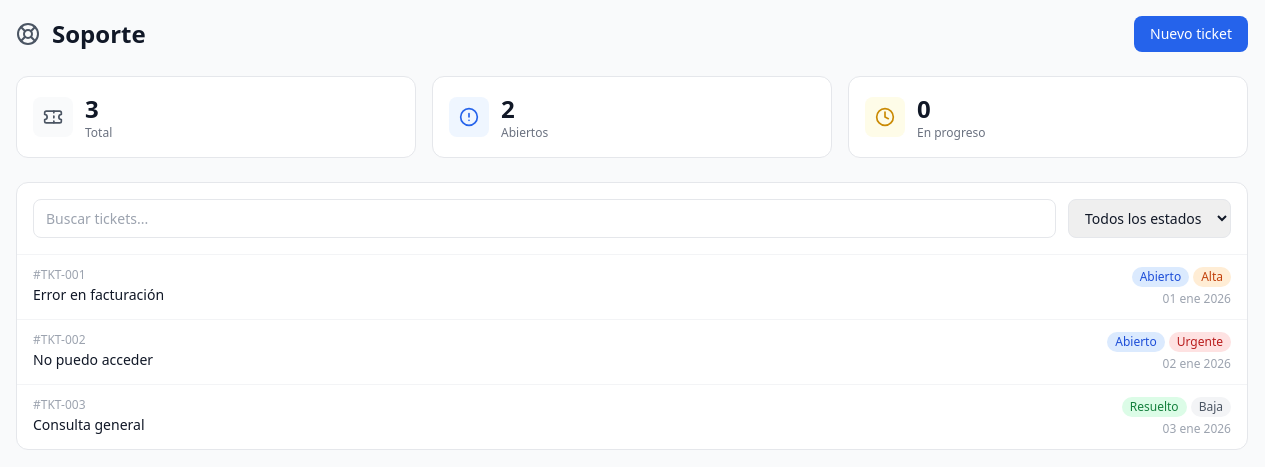
Test: SupportPage › filters tickets by status
The width and height of the screenshot is (1265, 467).
Select "Abierto" in the dropdown named "Estado" at (1150, 218), box x1=1068 y1=199 x2=1231 y2=238
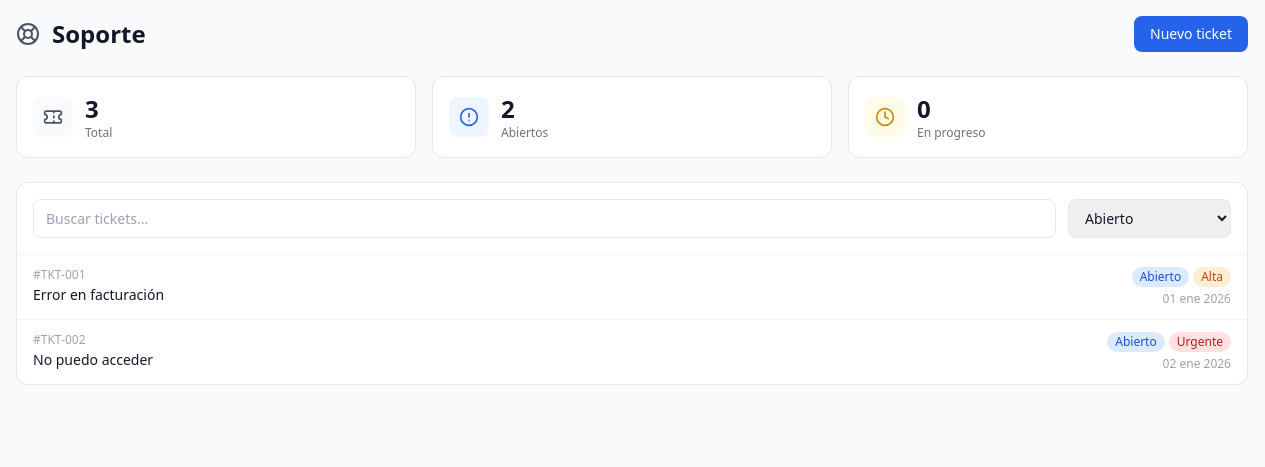
Check: the text "Error en facturación" is shown, box x1=33 y1=285 x2=164 y2=305
Check: the text "Consulta general" is gone
